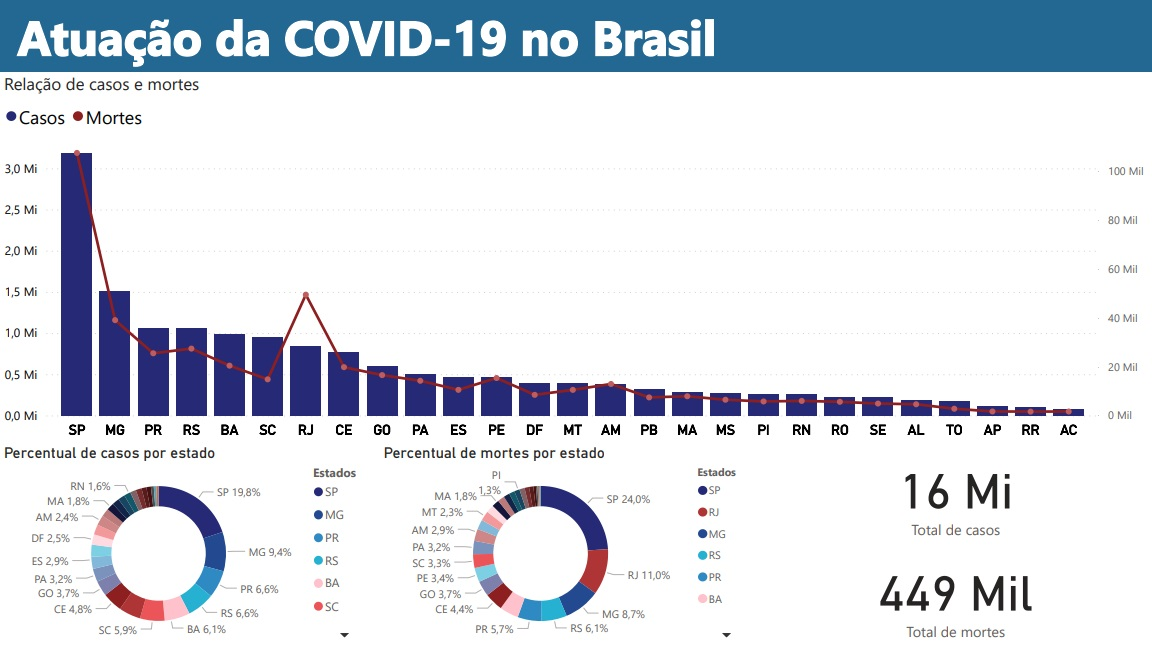

Layout of this report page (visuals, bound fields, positions):
{"tool":"powerbi","page":{"name":"Estados","canvas":[1280,720],"ordinal":1},"visuals":[{"type":"textbox","box":[0,0,1280.2,80.6],"z":0},{"type":"lineClusteredColumnComboChart","title":"Relação de casos e mortes","fields":{"Category":["total_state.state"],"Y":["Max(total_state.cases)"],"Y2":["Max(total_state.deaths)"]},"box":[0,81.4,1280,412.9],"z":1000},{"type":"donutChart","title":"Percentual de casos por estado","fields":{"Category":["total_state.state"],"Y":["Max(total_state.cases)"]},"box":[0,493.8,421.2,226.2],"z":2000},{"type":"donutChart","title":"Percentual de mortes por estado","fields":{"Category":["total_state.state"],"Y":["Max(total_state.deaths)"]},"box":[421.2,493.8,421.2,226.2],"z":3000},{"type":"card","fields":{"Values":["Sum(total_state.cases)"]},"box":[842.5,493.8,437,113.8],"z":4000},{"type":"card","fields":{"Values":["Sum(total_state.deaths)"]},"box":[842.5,606.2,437,113.8],"z":5000}]}

Visuals, with their boxes in screenshot pixels (x1, y1, x2, y2), scaled from the page's 1280x720 canvas onto the 1152x665 screenshot:
textbox: 0:0:1151:74
"Relação de casos e mortes" lineClusteredColumnComboChart: 0:75:1151:457
"Percentual de casos por estado" donutChart: 0:456:379:664
"Percentual de mortes por estado" donutChart: 379:456:758:664
card - Sum(total_state.cases): 758:456:1151:561
card - Sum(total_state.deaths): 758:560:1151:664
